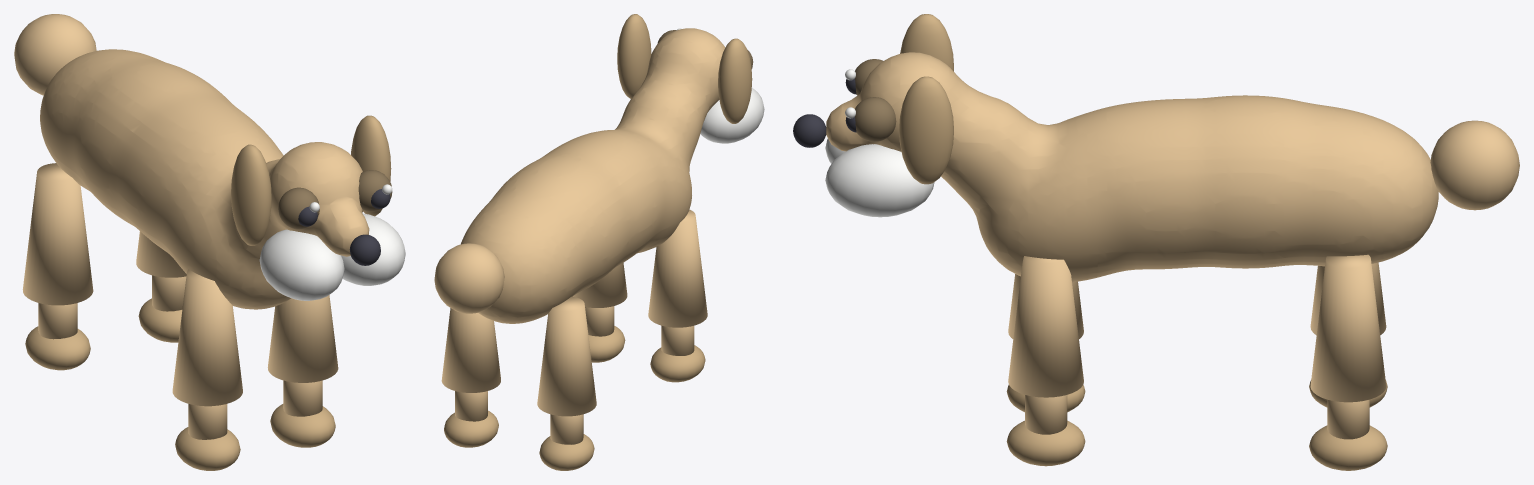
Rendered from Puppy.fbx.
3 renders of one model, left to right at view 1: azimuth 30°, elevation 25°; view 2: azimuth 150°, elevation 25°; view 3: azimuth 270°, elevation 25°, orthographic. The views are drawn at different scales.
Parts seen in each view (by area): view 1: Puppy; view 2: Puppy; view 3: Puppy.
Part boxes in pixels (bbox=[...]): Puppy: bbox=[14, 14, 405, 470]; Puppy: bbox=[434, 14, 764, 470]; Puppy: bbox=[793, 14, 1519, 470].
Bounding box in the file's own units: 154 × 307 × 517.
